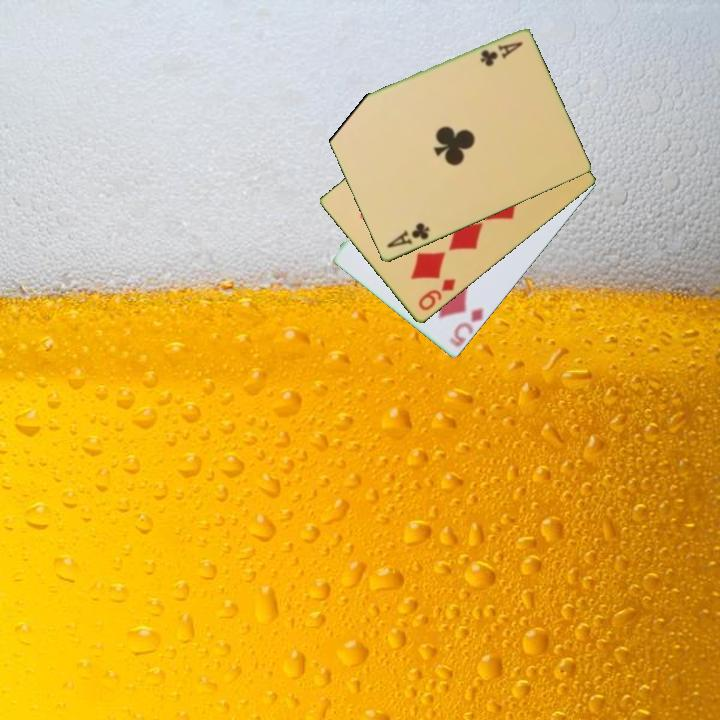5d: (446, 305, 487, 350)
9d: (415, 275, 459, 314)
Ac: (383, 219, 432, 251), (477, 38, 526, 69)
